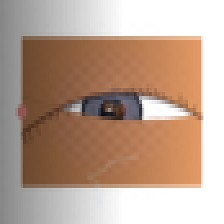foreign_body_visible: (97, 98, 121, 118)
